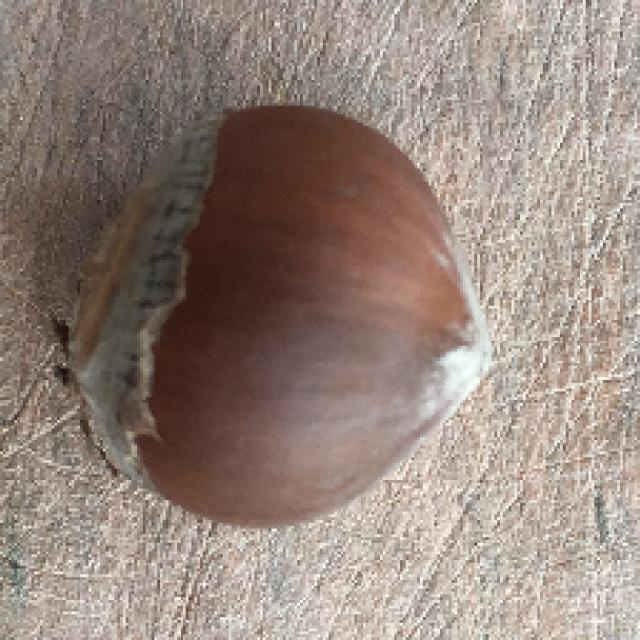DamagedHazelnut: (65, 107, 503, 531)
